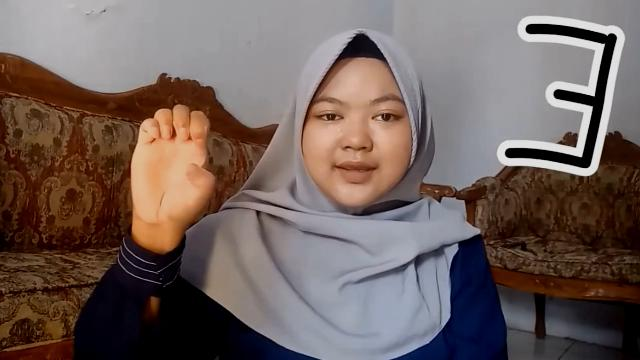E: (130, 102, 216, 232)
